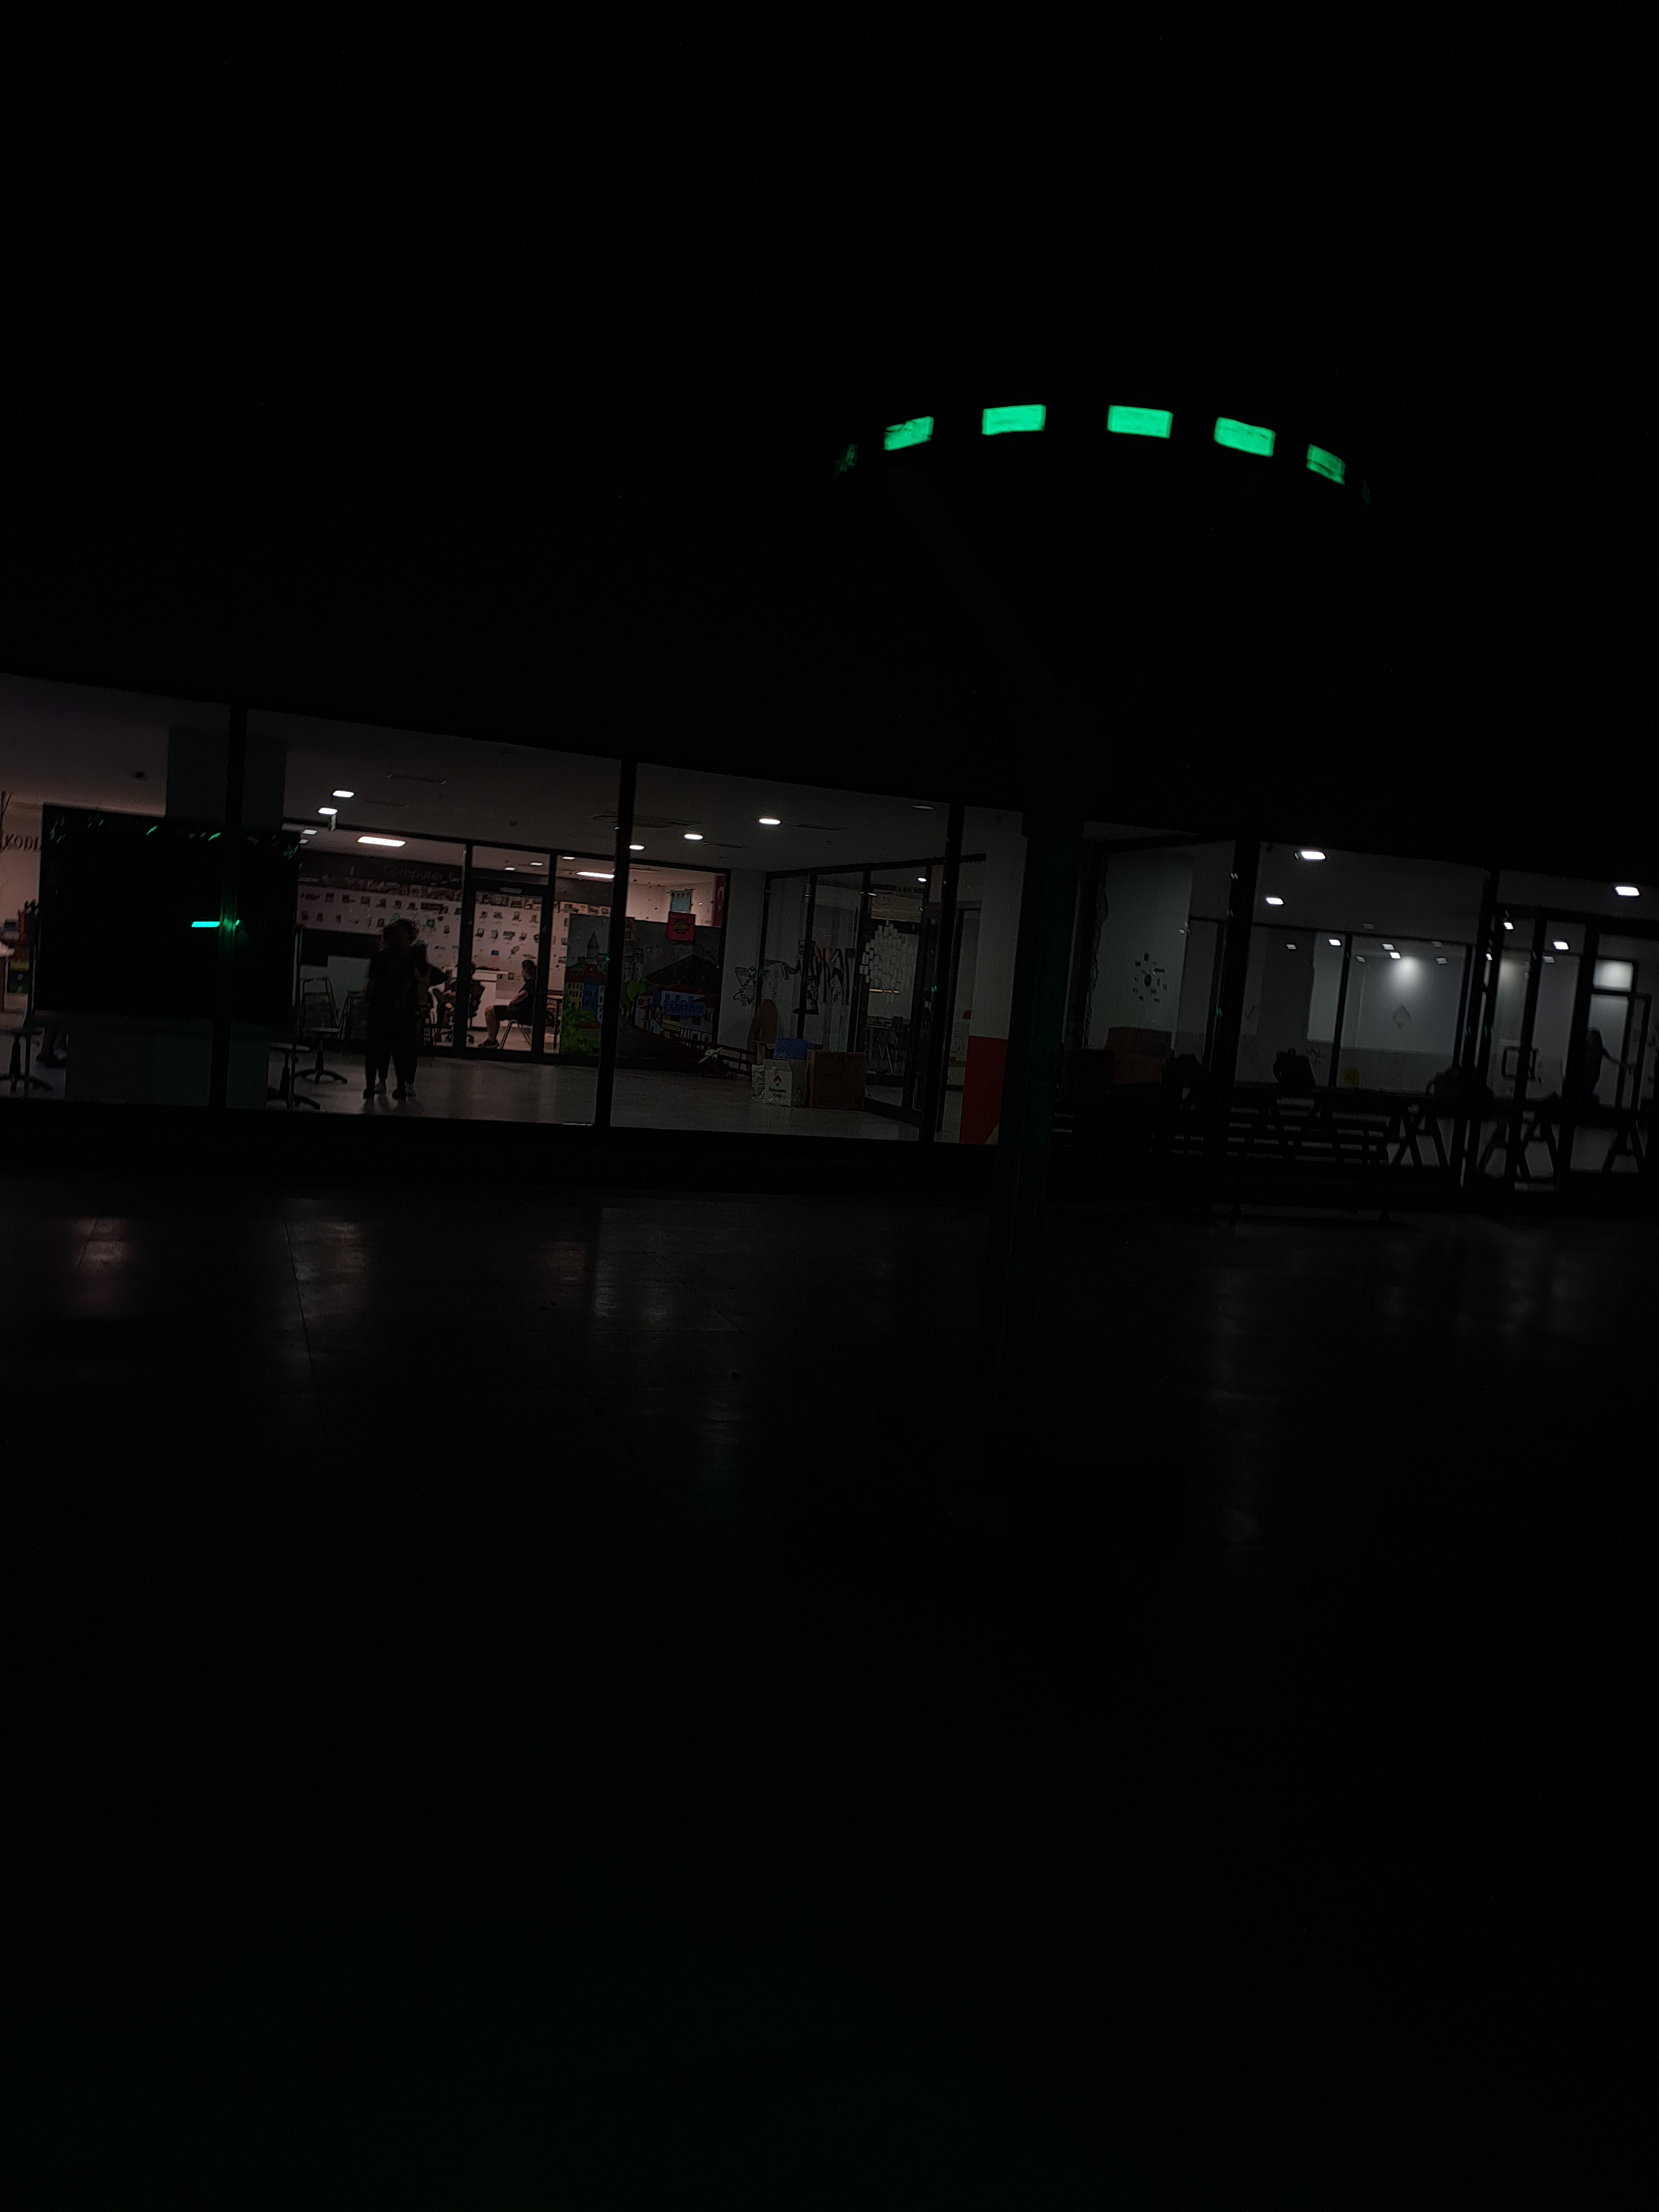hoop: (880, 394, 1347, 507)
